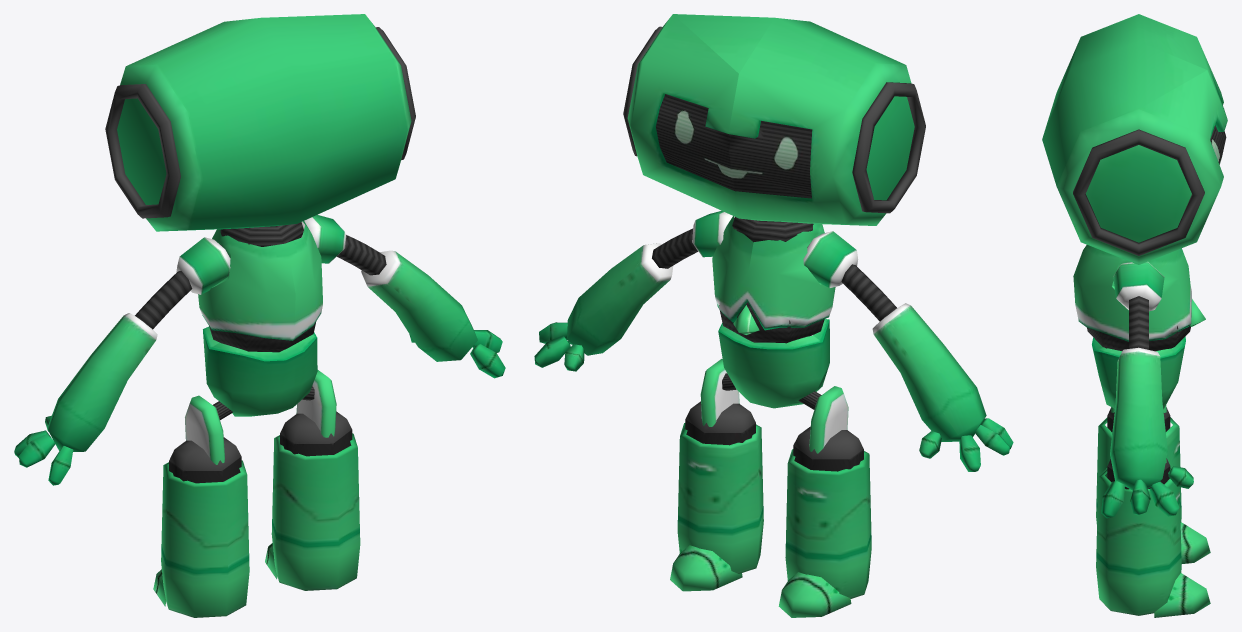
Rendered from robot-screen.glb.
3 views of the same model, side by side, from view 1: azimuth 30°, elevation 25°; view 2: azimuth 150°, elevation 25°; view 3: azimuth 270°, elevation 25° (orthographic). The views are drawn at different scales.
Visible parts, largest first — view 1: robot-screen; view 2: robot-screen; view 3: robot-screen.
Boxes of the visible parts, left/top/right/bottom form: robot-screen: left=14, top=14, right=505, bottom=617; robot-screen: left=534, top=14, right=1013, bottom=617; robot-screen: left=1042, top=14, right=1227, bottom=617.
Bounding box in the file's own units: 1.72 × 1.96 × 0.6137.
Materials: 1 (1 with a texture image).
